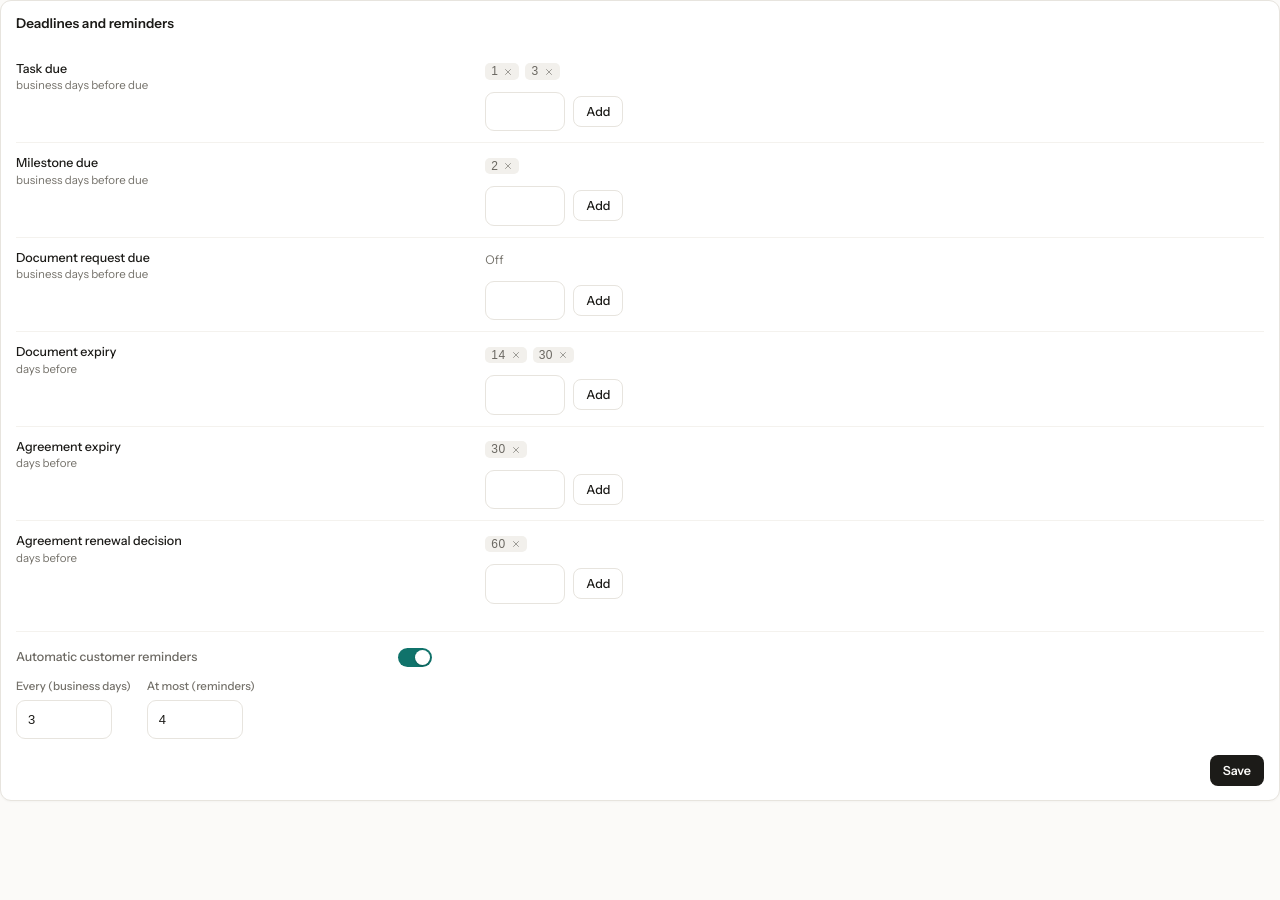
Test: HorizonsCard › refuses 0 with an inline message
Type "0" into the 1st number field named "Lead time in days".
click(525, 111); type("0")  # box 485,92 -> 565,131
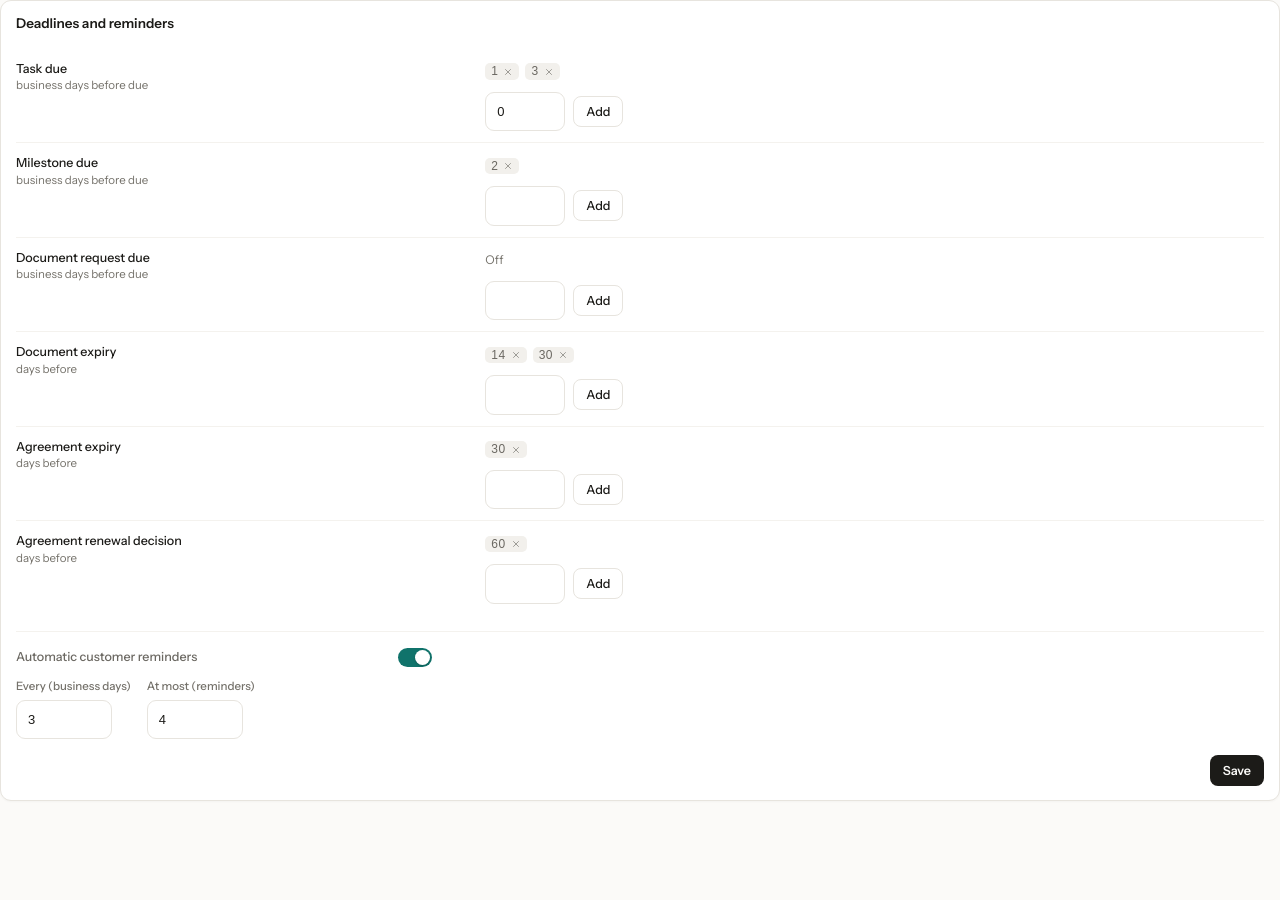
Click the button with aria-label "Add lead time".
click(598, 111)  # box 573,96 -> 623,127
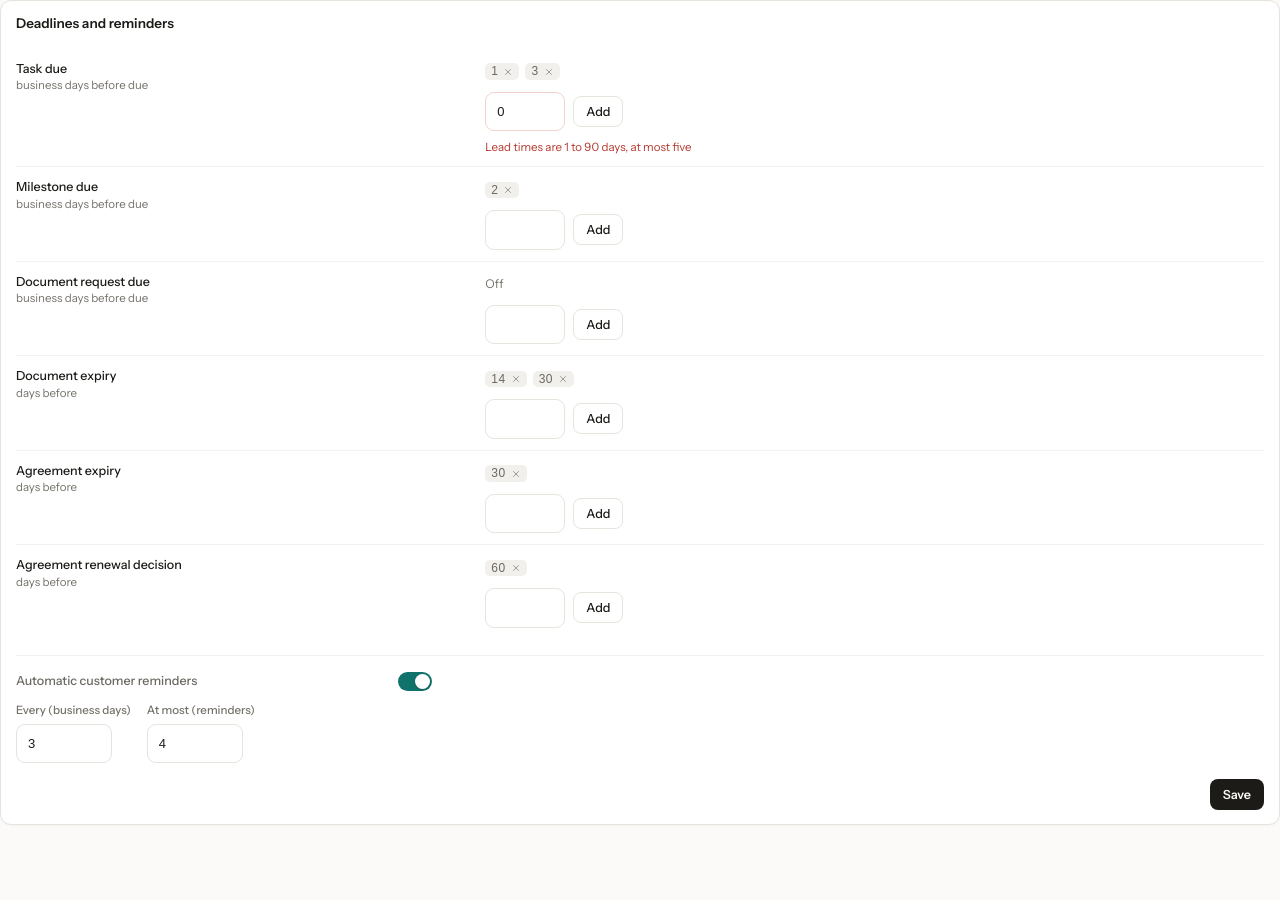
Expected: the number of buttons named "Remove" is 2, 485,63 -> 520,80; 526,63 -> 560,80
Expected: the message reads "Lead times are 1 to 90 days, at most five", 485,140 -> 692,154
